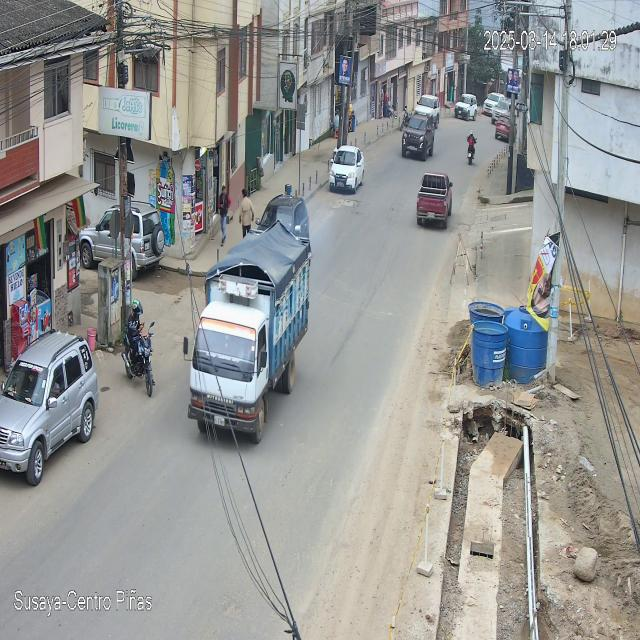CMT: (417, 172, 452, 229)
TRUCK: (188, 222, 312, 440)
